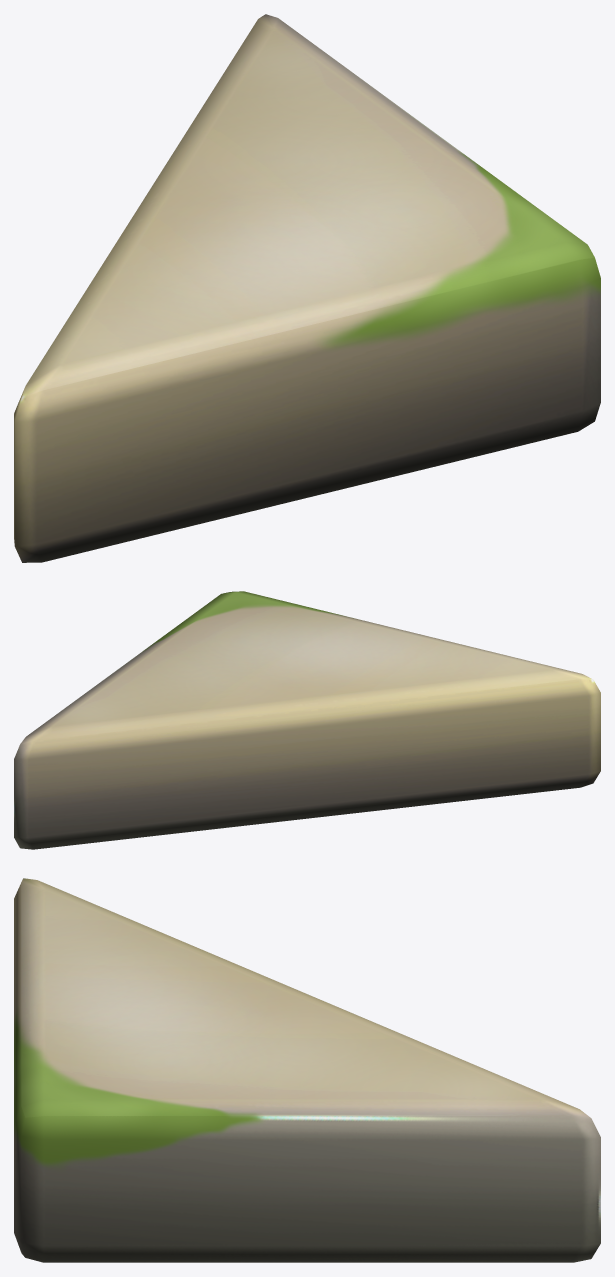
File: 直角三角形.fbx
The picture shows the model from 3 angles, top to bottom: view 1: azimuth 30°, elevation 25°; view 2: azimuth 150°, elevation 25°; view 3: azimuth 270°, elevation 25°; orthographic projection. The views are drawn at different scales.
Parts seen in each view (by area): view 1: 直角三角形; view 2: 直角三角形; view 3: 直角三角形.
Part boxes in pixels (x1,y1,x2,y2): 直角三角形: (14, 14, 600, 562); 直角三角形: (14, 591, 600, 849); 直角三角形: (14, 878, 600, 1262).
Bounding box in the file's own units: 97.87 × 29.51 × 97.87.
1 material, 1 textured.
